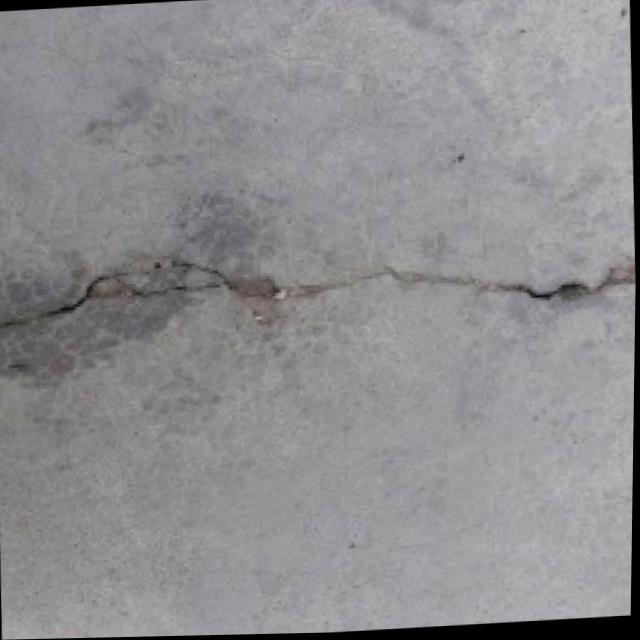Crack: (0, 228, 637, 373)
